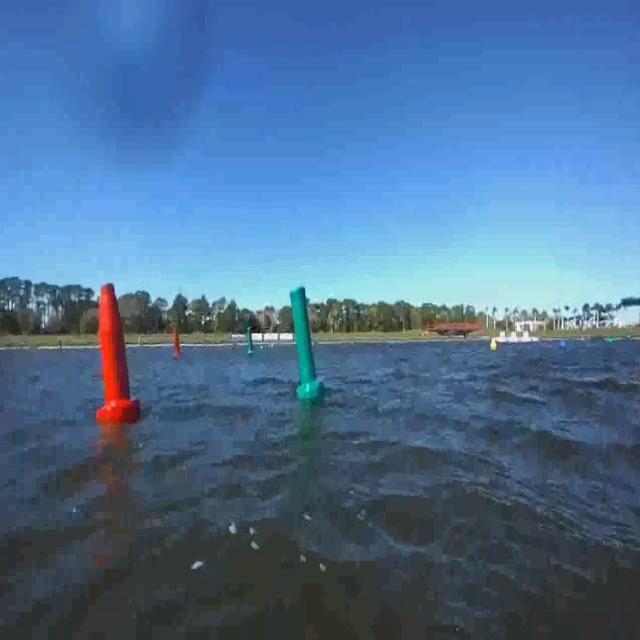blue-buoy: (559, 337, 568, 353)
green-column-buoy: (287, 282, 323, 400), (243, 325, 253, 358)
red-column-buoy: (93, 283, 138, 423), (172, 327, 182, 356)
yellow-buoy: (490, 339, 499, 354)
